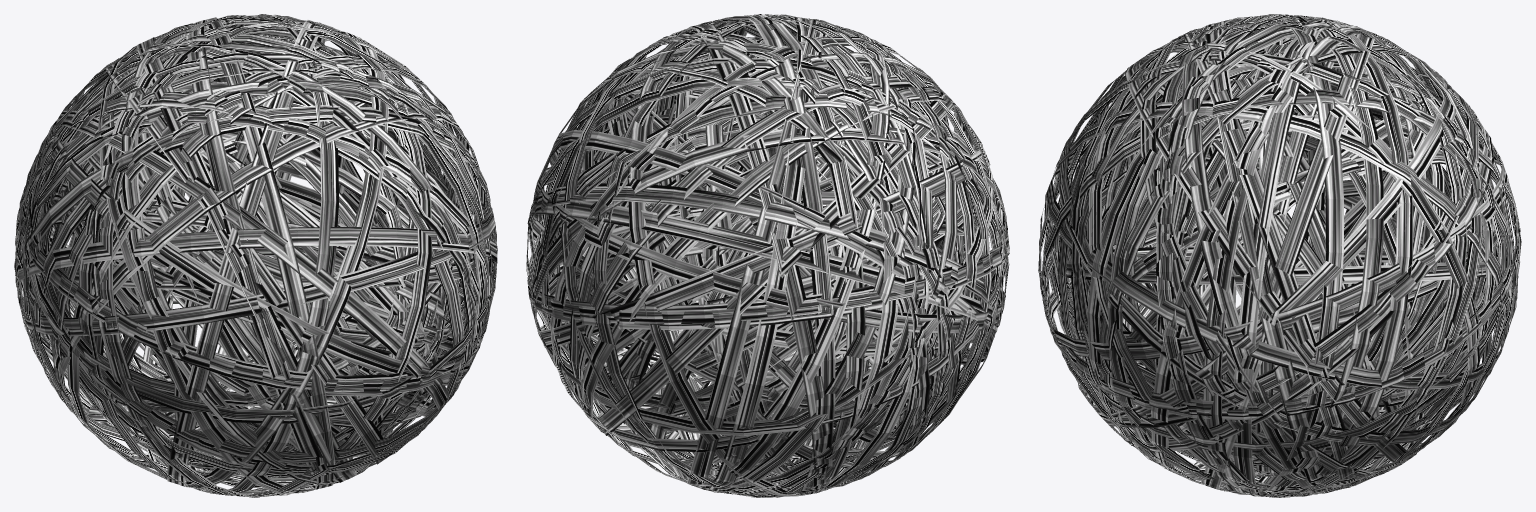
File: Rasengan_Center.fbx
3 views of the same model, side by side, from view 1: azimuth 30°, elevation 25°; view 2: azimuth 150°, elevation 25°; view 3: azimuth 270°, elevation 25° (orthographic).
Parts seen in each view (by area): view 1: SM_WEP_Eff_MassiveRasengan_A_02.mo; view 2: SM_WEP_Eff_MassiveRasengan_A_02.mo; view 3: SM_WEP_Eff_MassiveRasengan_A_02.mo.
Part boxes in pixels (x1,y1,x2,y2): SM_WEP_Eff_MassiveRasengan_A_02.mo: (14,14,497,497); SM_WEP_Eff_MassiveRasengan_A_02.mo: (526,14,1009,497); SM_WEP_Eff_MassiveRasengan_A_02.mo: (1038,14,1521,497).
Bounding box in the file's own units: 105 × 105 × 105.
